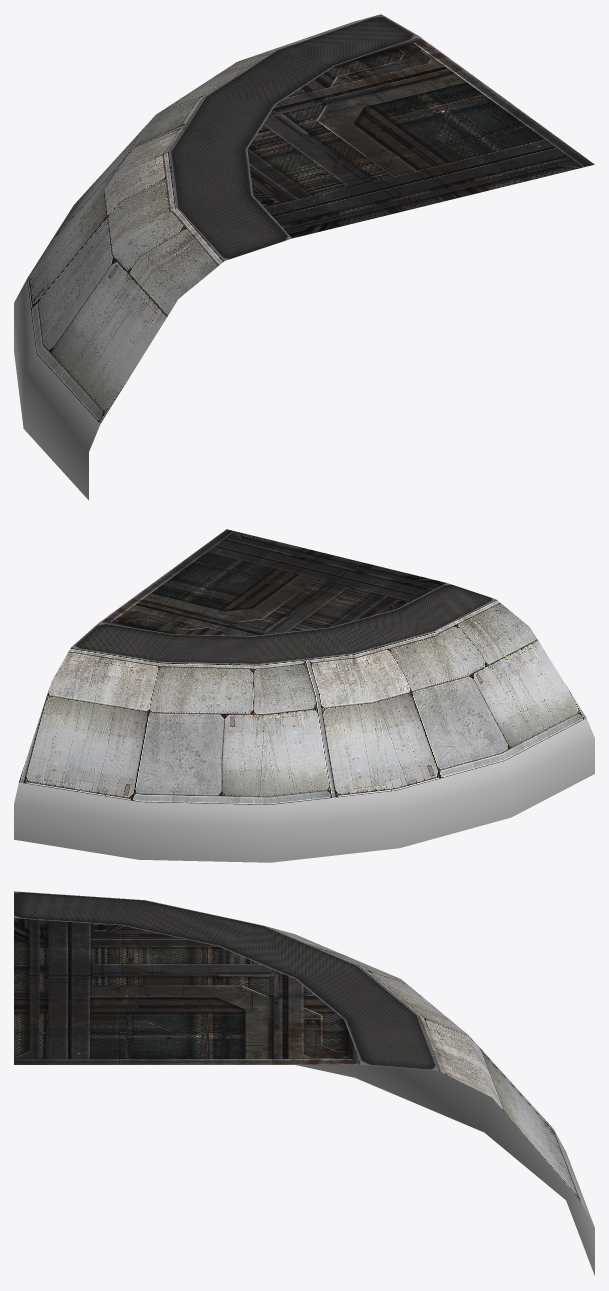
The model's file is Roof_B_Short2mts_12.fbx.
The picture shows the model from 3 angles, top to bottom: view 1: azimuth 30°, elevation 25°; view 2: azimuth 150°, elevation 25°; view 3: azimuth 270°, elevation 25°; orthographic projection. The views are drawn at different scales.
Parts seen in each view (by area): view 1: Roof_B_Short2mts_12; view 2: Roof_B_Short2mts_12; view 3: Roof_B_Short2mts_12.
Boxes of the visible parts, box(x1,y1,x2,y2) form: Roof_B_Short2mts_12: box(14, 14, 594, 500); Roof_B_Short2mts_12: box(14, 529, 594, 862); Roof_B_Short2mts_12: box(14, 891, 594, 1275).
Size of the model in its own units: 498 by 200 by 498.
